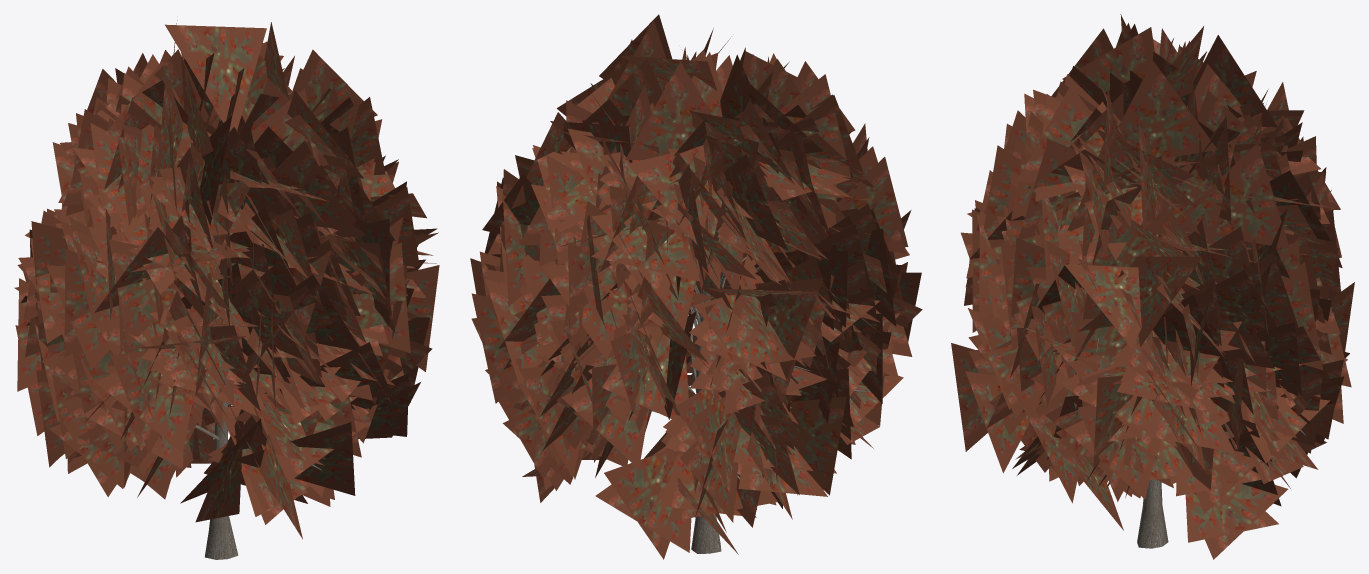
The model's file is Quercus_Rubra_Autumn_Young.glb.
3 views of the same model, side by side, from view 1: azimuth 30°, elevation 25°; view 2: azimuth 150°, elevation 25°; view 3: azimuth 270°, elevation 25° (orthographic). The views are drawn at different scales.
Parts seen in each view (by area): view 1: Quercus_Rubra_Autumn_Young__LOD3; view 2: Quercus_Rubra_Autumn_Young__LOD3; view 3: Quercus_Rubra_Autumn_Young__LOD3.
Boxes of the visible parts, x1=… form: Quercus_Rubra_Autumn_Young__LOD3: x1=14, y1=20, x2=439, y2=559; Quercus_Rubra_Autumn_Young__LOD3: x1=470, y1=14, x2=922, y2=559; Quercus_Rubra_Autumn_Young__LOD3: x1=951, y1=14, x2=1354, y2=559.
Size of the model in its own units: 8.46 by 10.98 by 7.93.
2 materials, 2 textured.
